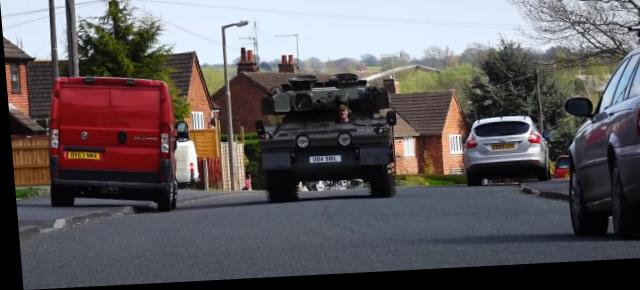tank: (255, 78, 392, 203)
